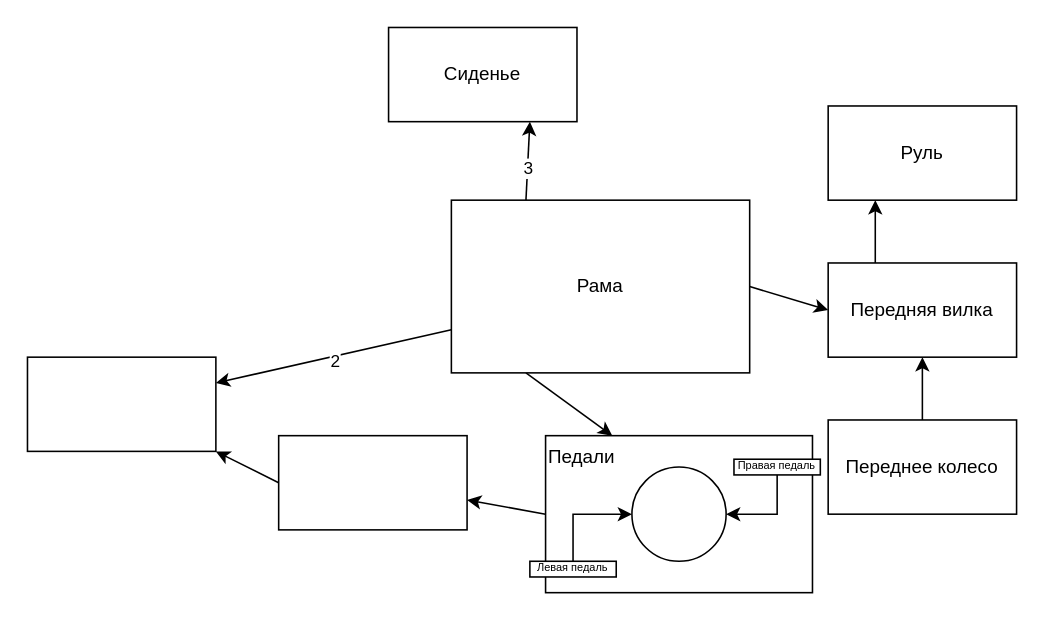
This 1044x620 diagram has some shape labels left out. The box of each missing label's shape, as (x1, y1, x2, y2) in pixels:
Заднее колесо: (26, 356, 216, 451)
Звездочка: (630, 466, 726, 561)
Цепь: (277, 434, 467, 530)
